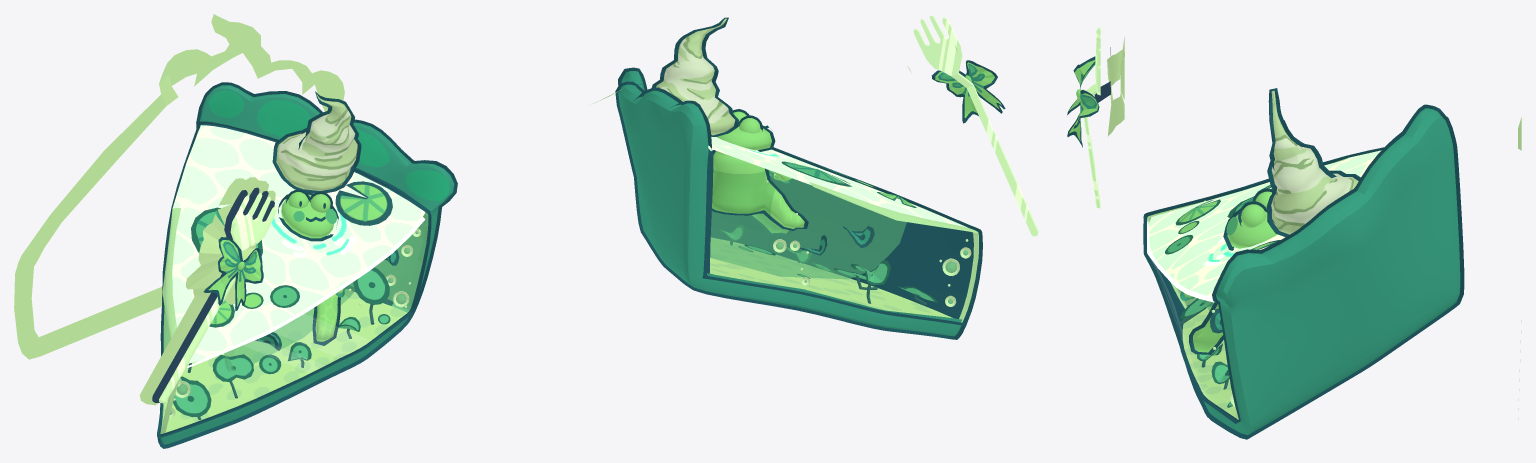
The model's file is froggie_pie_by_lemonscribs.glb.
3 renders of one model, left to right at view 1: azimuth 30°, elevation 25°; view 2: azimuth 150°, elevation 25°; view 3: azimuth 270°, elevation 25°, orthographic. The views are drawn at different scales.
Visible parts, largest first — view 1: Pie_18, Plane.001_23, Lilypads_17, Cream_10, Fork Shadow 2_16, Body_3, Fork_14, Circle.003_7, Ribbon 2_20, Fork Shadow 1_15, Cube.003_11, Big Bubbles_2; view 2: Pie_18, Cube.003_11, Body_3, Cream_10, Fork_14, Lilypads_17, Ribbon 2_20, Big Bubbles_2, Circle.003_7; view 3: Pie_18, Cream_10, Body_3, Lilypads_17, Fork Shadow 2_16, Ribbon 2_20, Fork_14, Eye 2_13.
Part boxes in pixels (left/top/right/bottom): Pie_18: left=157, top=82, right=457, bottom=448; Plane.001_23: left=14, top=14, right=344, bottom=359; Lilypads_17: left=173, top=207, right=390, bottom=417; Cream_10: left=272, top=91, right=361, bottom=193; Fork Shadow 2_16: left=139, top=177, right=275, bottom=405; Body_3: left=278, top=192, right=340, bottom=345; Fork_14: left=159, top=193, right=276, bottom=403; Circle.003_7: left=255, top=181, right=399, bottom=350; Ribbon 2_20: left=203, top=237, right=263, bottom=311; Fork Shadow 1_15: left=152, top=187, right=274, bottom=402; Cube.003_11: left=224, top=282, right=354, bottom=371; Big Bubbles_2: left=164, top=228, right=421, bottom=417; Pie_18: left=615, top=67, right=982, bottom=339; Cube.003_11: left=710, top=174, right=906, bottom=279; Body_3: left=712, top=126, right=808, bottom=235; Cream_10: left=651, top=17, right=738, bottom=136; Fork_14: left=913, top=15, right=1038, bottom=236; Lilypads_17: left=719, top=161, right=937, bottom=302; Ribbon 2_20: left=931, top=60, right=1005, bottom=123; Big Bubbles_2: left=773, top=239, right=971, bottom=306; Circle.003_7: left=799, top=226, right=874, bottom=255; Pie_18: left=1143, top=104, right=1464, bottom=439; Cream_10: left=1266, top=88, right=1360, bottom=236; Body_3: left=1189, top=209, right=1277, bottom=354; Lilypads_17: left=1165, top=185, right=1272, bottom=407; Fork Shadow 2_16: left=1107, top=36, right=1124, bottom=136; Ribbon 2_20: left=1067, top=56, right=1099, bottom=147; Fork_14: left=1084, top=27, right=1100, bottom=208; Eye 2_13: left=1238, top=201, right=1267, bottom=227.
Size of what is drawn, in the model's own units: 4.55 by 3.56 by 3.95.
Materials: 26 (7 with a texture image).
